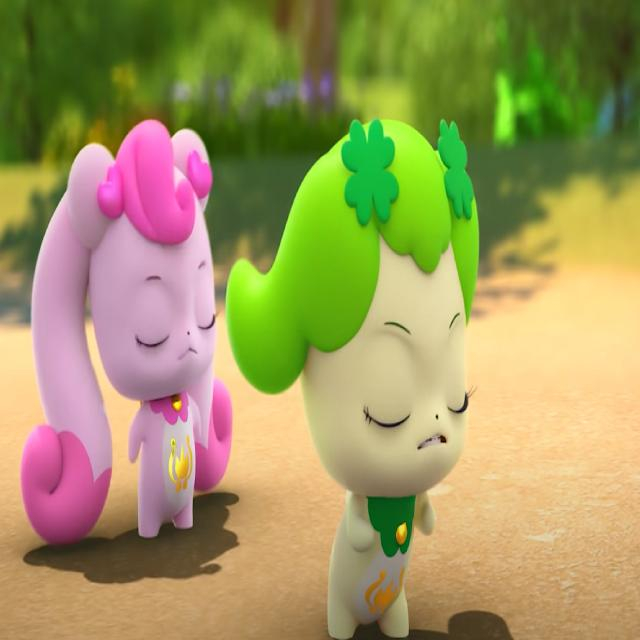Chachaping: (225, 114, 479, 640)
Hachuping: (20, 118, 233, 544)
